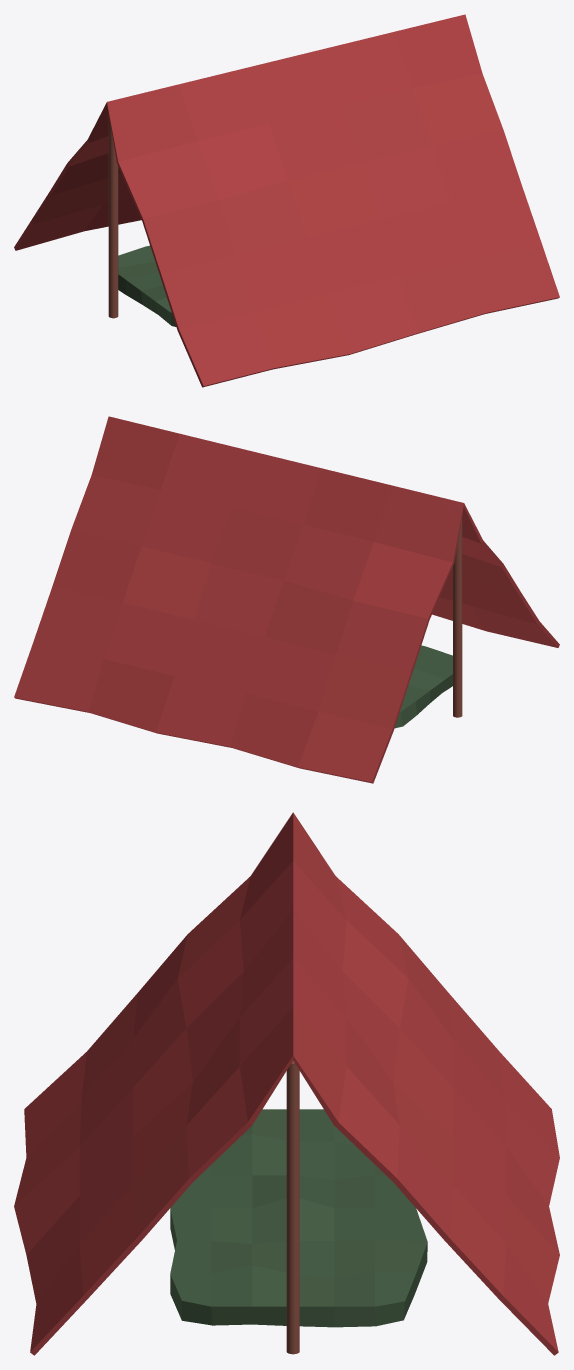
The model's file is tent_01.fbx.
The picture shows the model from 3 angles, top to bottom: view 1: azimuth 30°, elevation 25°; view 2: azimuth 150°, elevation 25°; view 3: azimuth 270°, elevation 25°; orthographic projection. The views are drawn at different scales.
Parts seen in each view (by area): view 1: tent_01; view 2: tent_01; view 3: tent_01.
Boxes of the visible parts, bbox=[...] form: tent_01: bbox=[14, 14, 559, 387]; tent_01: bbox=[14, 416, 559, 783]; tent_01: bbox=[14, 812, 559, 1355].
Size of the model in its own units: 203 by 115 by 190.
